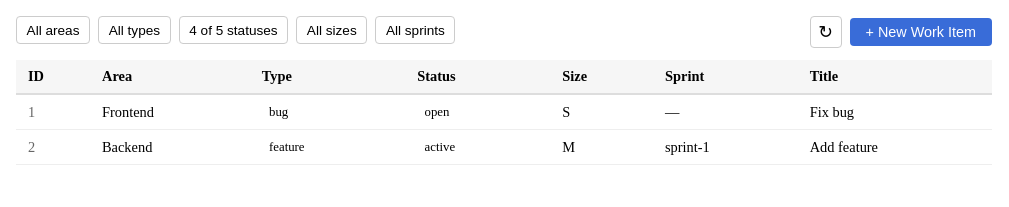
Test case: WorkItemList › renders a visual cue when a filter is not at its default
The image size is (1009, 207).
Expected: the text "Fix bug" is shown, top-left (798, 94), bottom-right (992, 130)
Click the button "4 of 5 statuses" at (233, 30), box top-left (179, 16), bottom-right (288, 44)
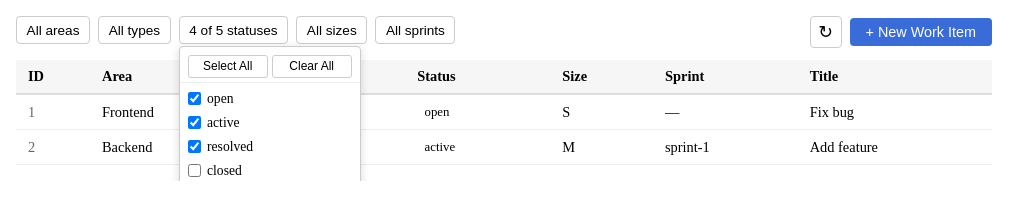
Click the button "Clear All" at (312, 66), box top-left (272, 55), bottom-right (352, 78)
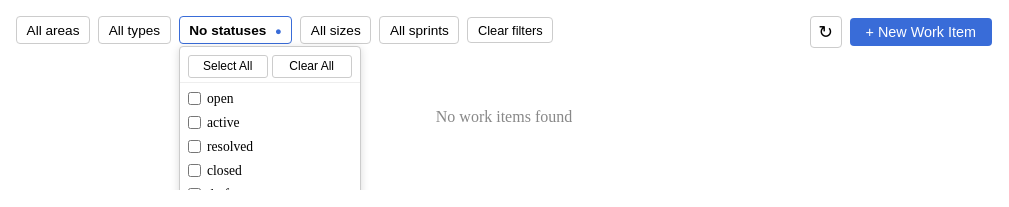
Now the text named "filter modified" is shown, box top-left (275, 25), bottom-right (282, 37)
